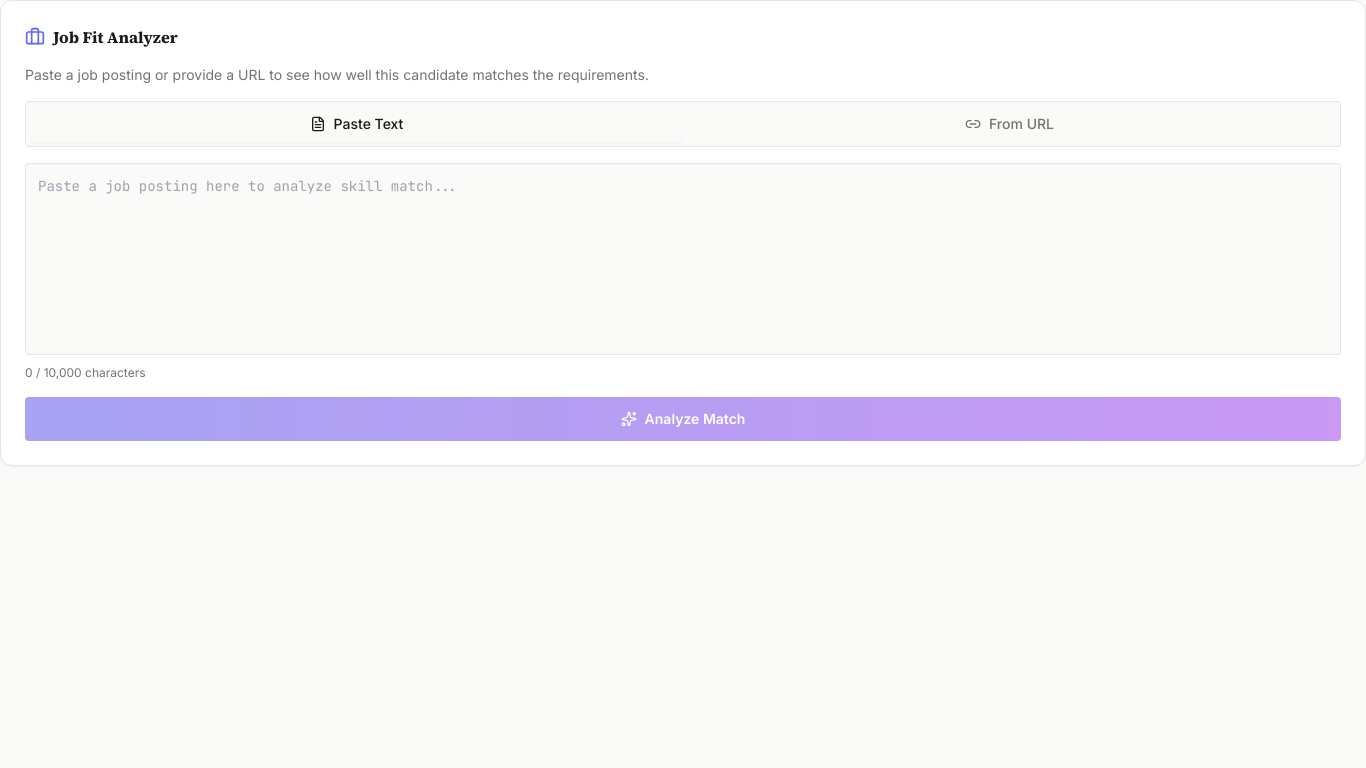
Test: JobPostingMatcher › displays error message on API failure
The image size is (1366, 768).
Type "Some job posting" into the text box with placeholder "Paste a job posting here to analyze skill match..." at (683, 259), box [25,163,1341,355]
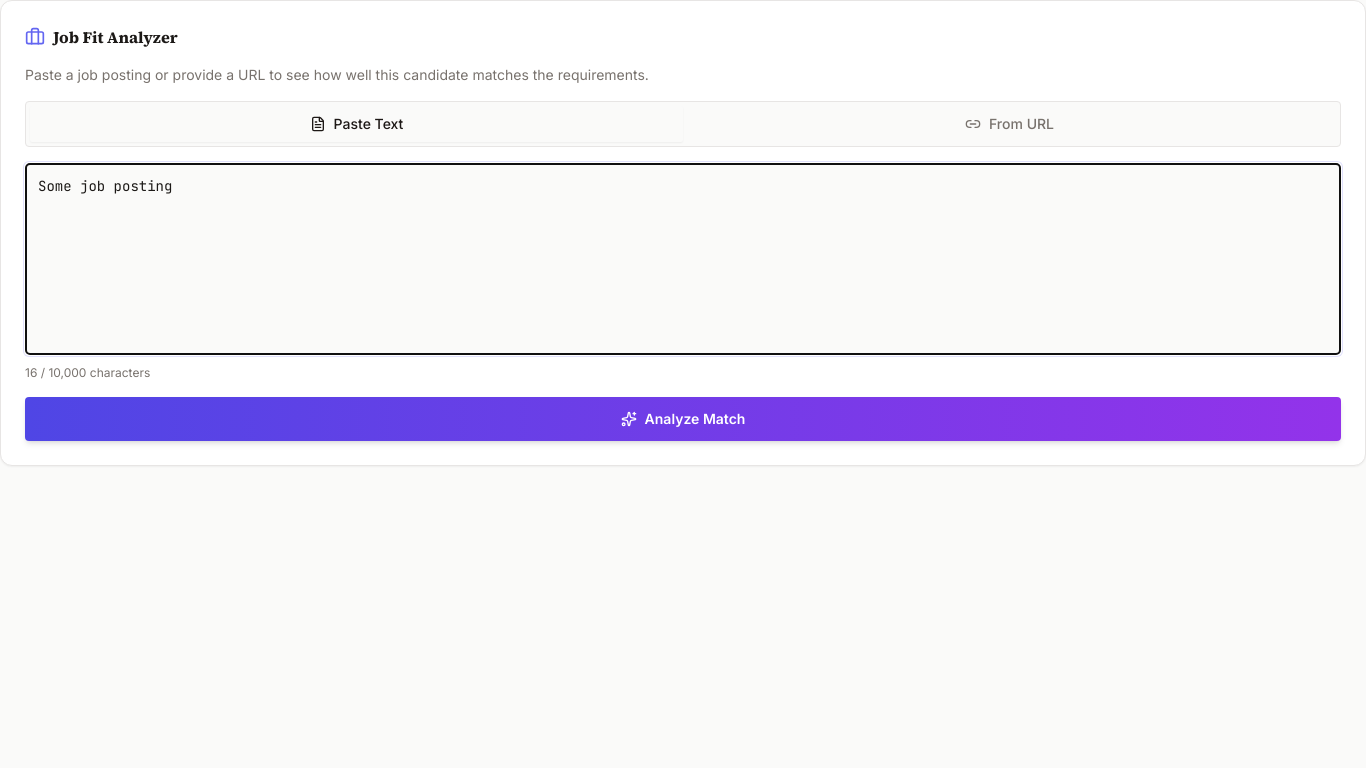
Click the button "Analyze Match" at (683, 419), box [25,397,1341,441]
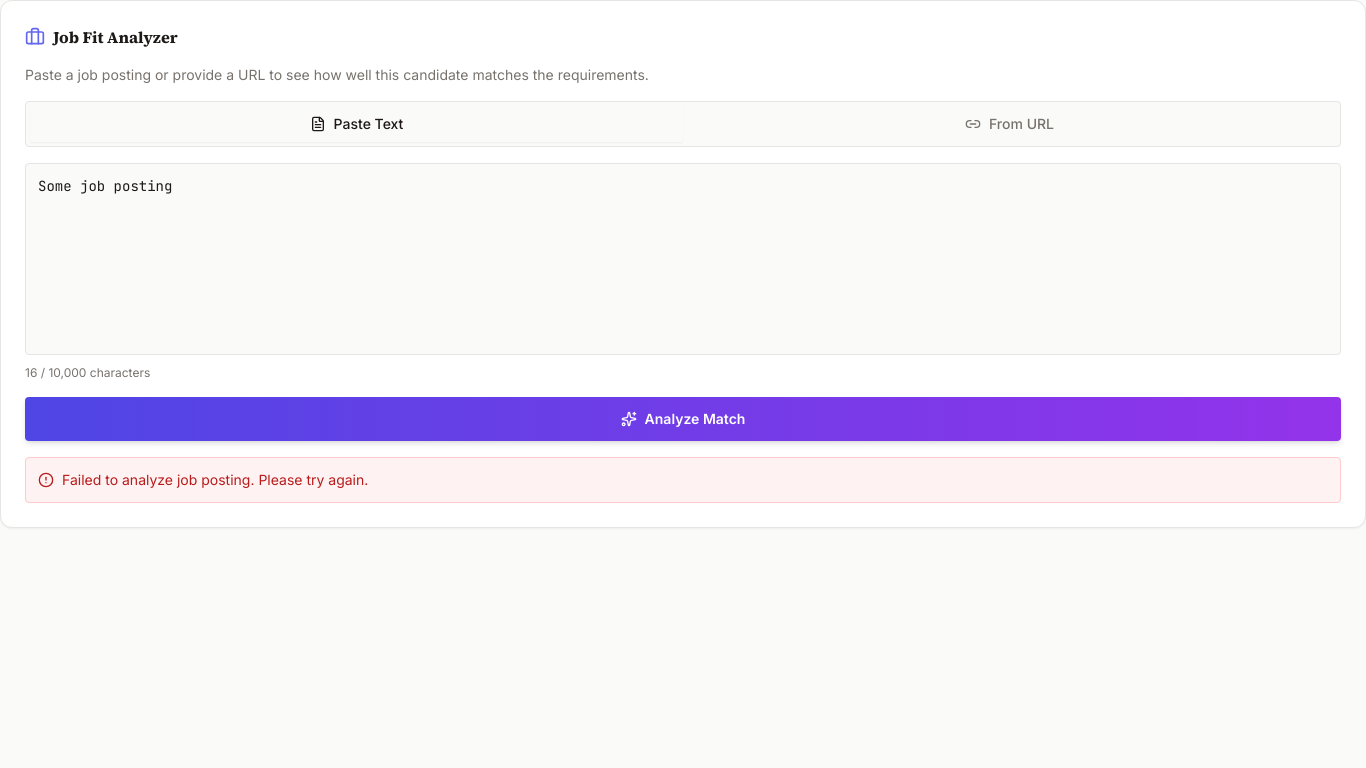
Check: the message "Failed to analyze job posting. Please try again." is shown, box [25,457,1341,503]
Check: the text "Failed to analyze job posting. Please try again." is shown, box [62,470,368,490]
